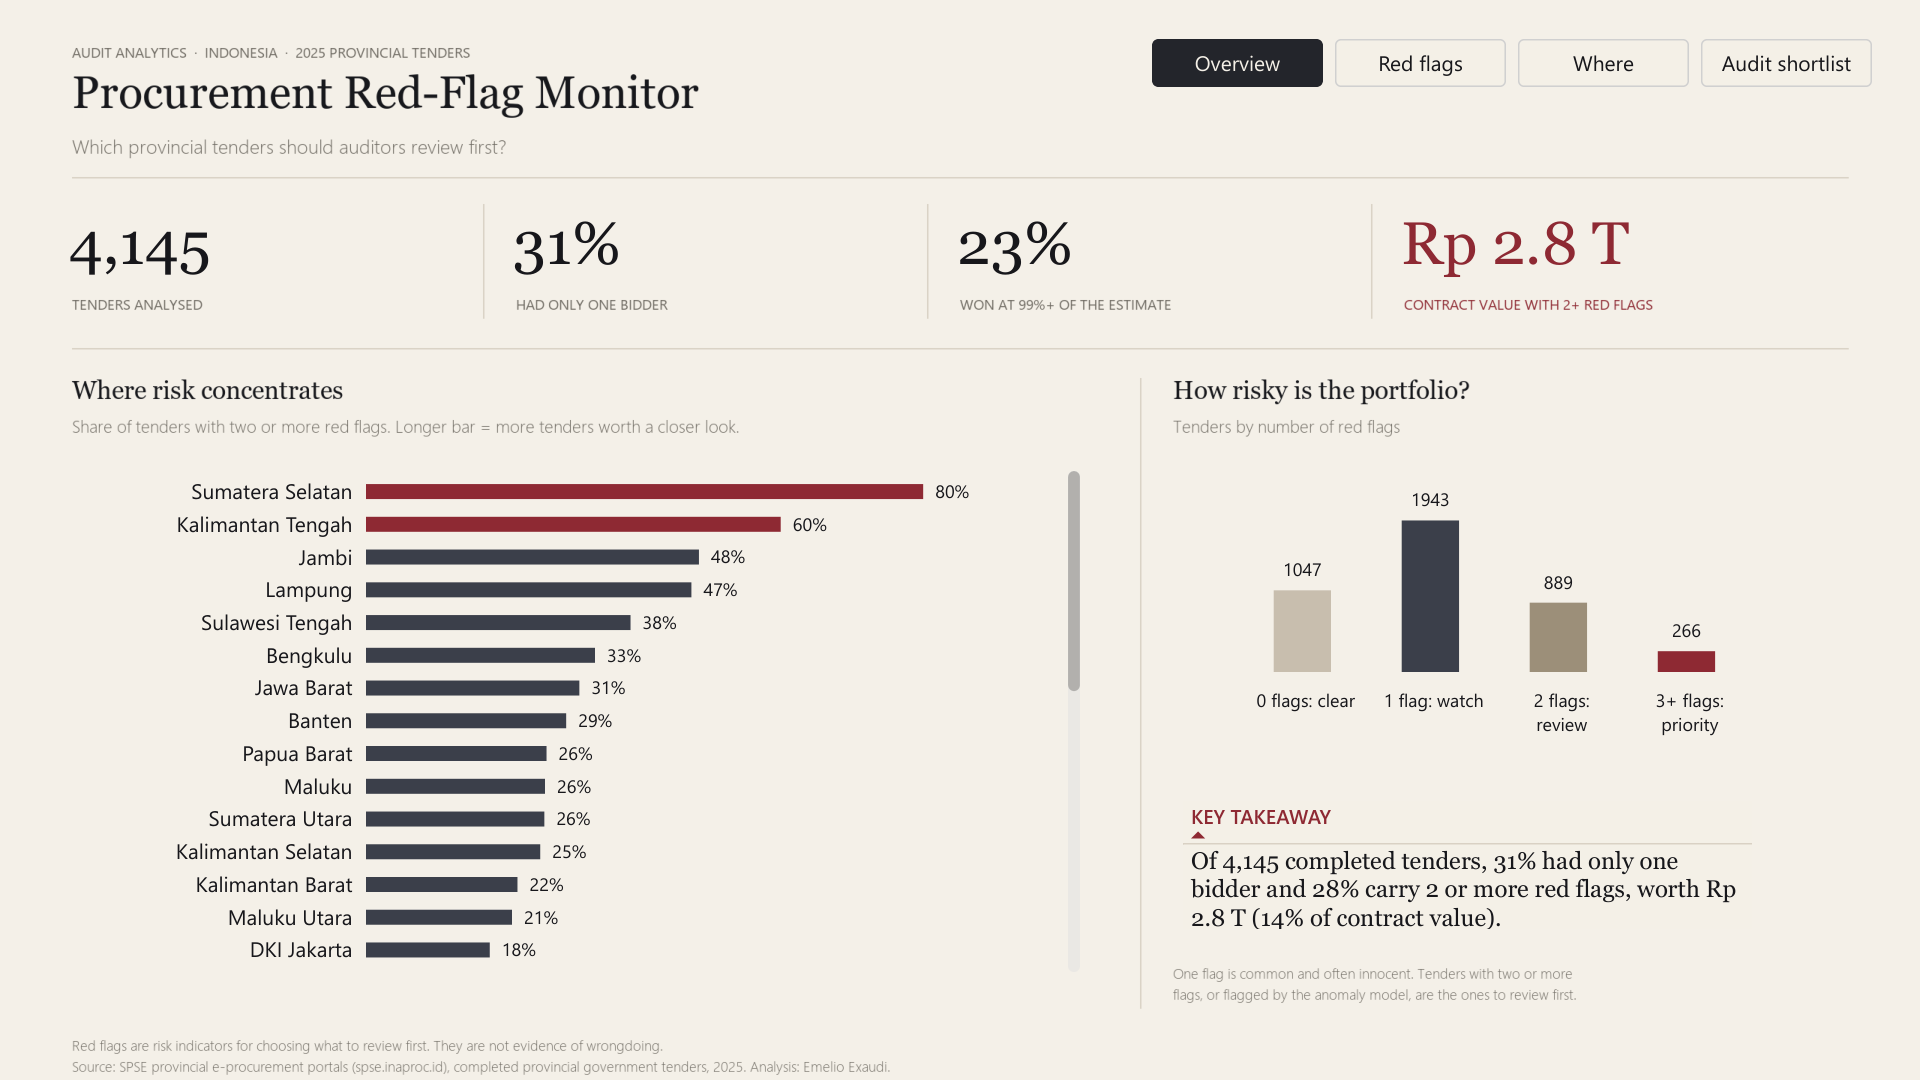

The dashboard page shown, as its layout file describes it:
{"tool":"powerbi","page":{"name":"Overview","canvas":[1280,720],"ordinal":0},"visuals":[{"type":"cardVisual","fields":{"Data":["flags.Tenders Analysed Label"]},"box":[30,132,262,60],"z":0},{"type":"cardVisual","fields":{"Data":["tenders.Single Bid %"]},"box":[326,132,262,60],"z":1},{"type":"cardVisual","fields":{"Data":["tenders.Near HPS %"]},"box":[622,132,262,60],"z":2},{"type":"cardVisual","fields":{"Data":["tenders.Rp Label Multi Flag Value"]},"box":[918,132,300,60],"z":3},{"type":"clusteredBarChart","fields":{"Category":["tenders.province"],"Y":["tenders.Multi Flag %"]},"box":[36,292,700,372],"z":4},{"type":"clusteredColumnChart","fields":{"Category":["tenders.risk_tier"],"Y":["tenders.Tenders Analysed"]},"box":[776,300,422,210],"z":5},{"type":"tableEx","fields":{"Values":["tenders.Headline"]},"box":[772,520,422,120],"z":6},{"type":"pageNavigator","box":[768,26,480,32],"z":7}]}

Visuals, with their boxes in screenshot pixels (x1, y1, x2, y2), scaled from the page's 1280x720 canvas onto the 1920x1080 screenshot:
cardVisual - flags.Tenders Analysed Label: region(45, 198, 438, 288)
cardVisual - tenders.Single Bid %: region(489, 198, 882, 288)
cardVisual - tenders.Near HPS %: region(933, 198, 1326, 288)
cardVisual - tenders.Rp Label Multi Flag Value: region(1377, 198, 1827, 288)
clusteredBarChart - tenders.province x tenders.Multi Flag %: region(54, 438, 1104, 996)
clusteredColumnChart - tenders.risk_tier x tenders.Tenders Analysed: region(1164, 450, 1797, 765)
tableEx - tenders.Headline: region(1158, 780, 1791, 960)
pageNavigator: region(1152, 39, 1872, 87)
